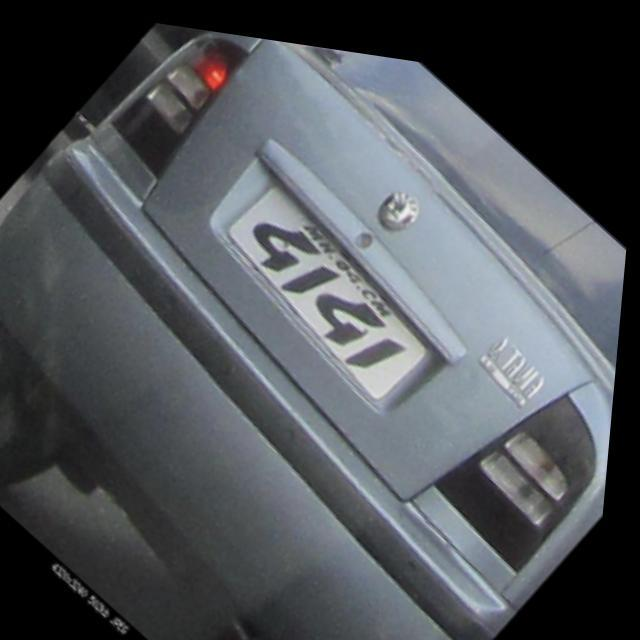license_plate: (208, 164, 454, 393)
